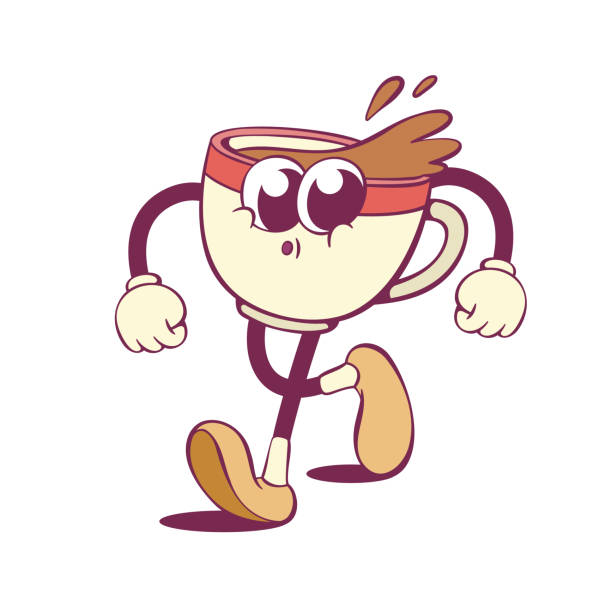cup: (36, 15, 576, 612)
